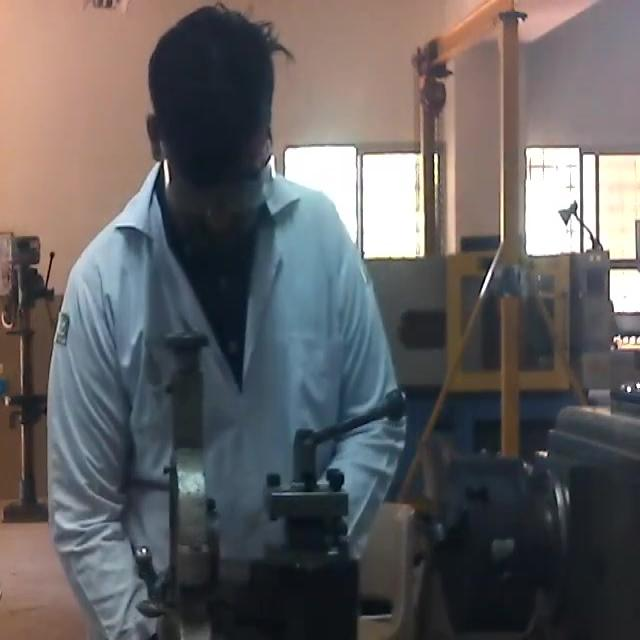googles: (164, 155, 272, 222)
labcoat: (50, 157, 406, 640)
